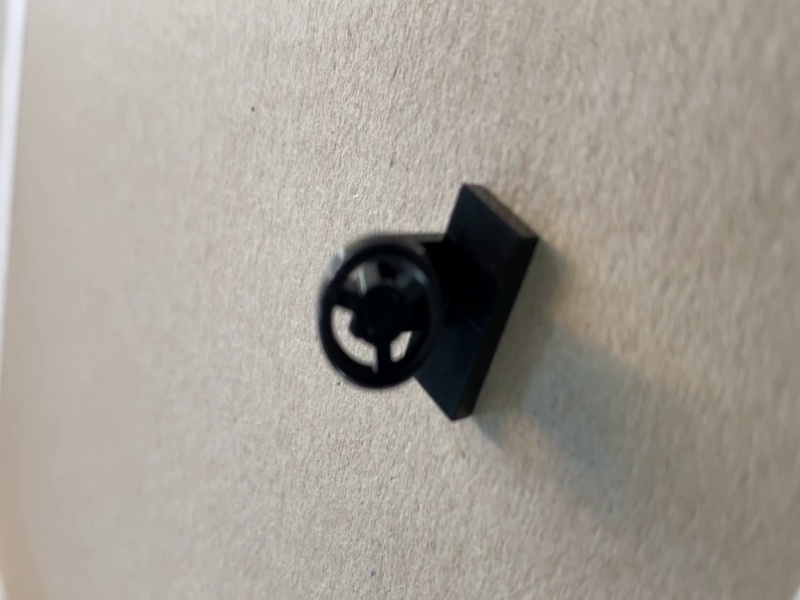steering wheel: (317, 182, 542, 428)
